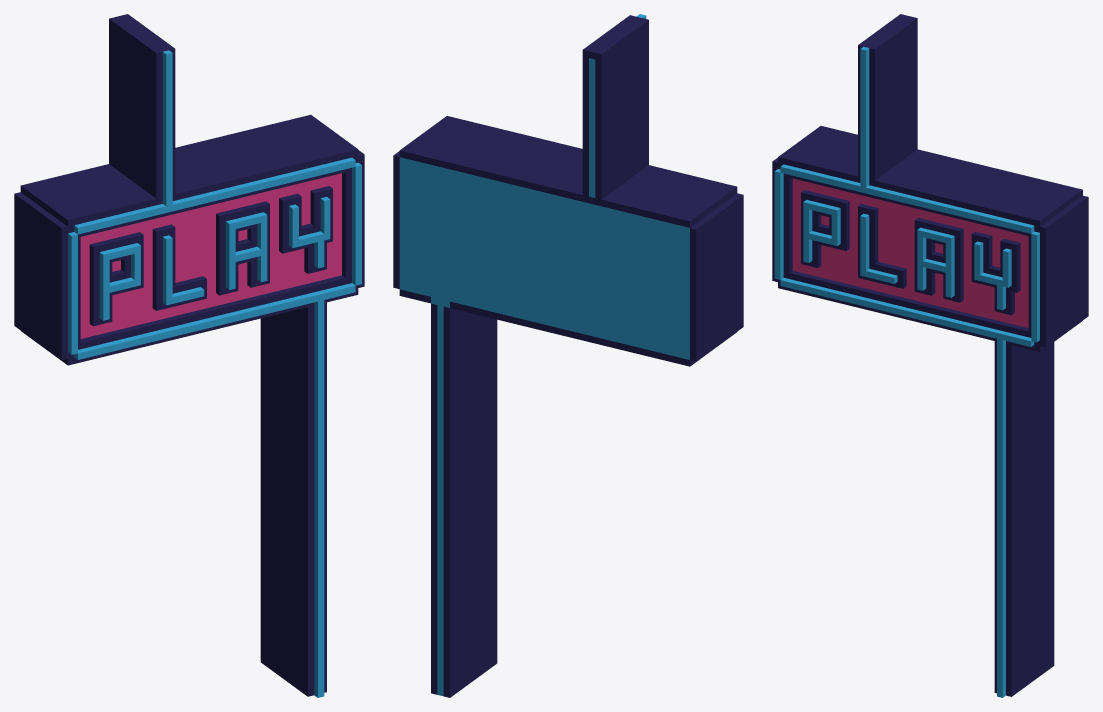
File: playButton.obj
3 views of the same model, side by side, from view 1: azimuth 30°, elevation 25°; view 2: azimuth 150°, elevation 25°; view 3: azimuth 330°, elevation 25° (orthographic). The views are drawn at different scales.
Size of the model in its own units: 48 by 103 by 14.
